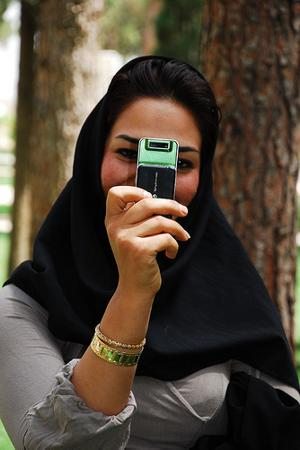person: (2, 54, 300, 449)
